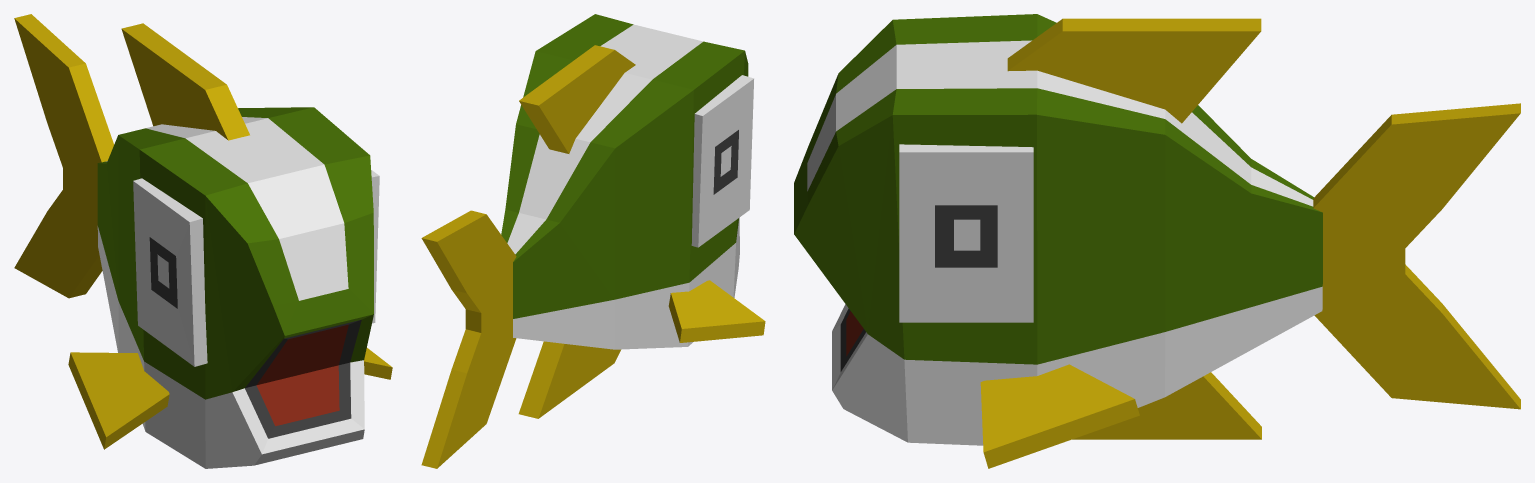
The model's file is green.fbx.
3 renders of one model, left to right at view 1: azimuth 30°, elevation 25°; view 2: azimuth 150°, elevation 25°; view 3: azimuth 270°, elevation 25°, orthographic. The views are drawn at different scales.
Visible parts, largest first — view 1: Cube.029; view 2: Cube.029; view 3: Cube.029.
Part boxes in pixels (box(x1,y1,x2,y2)): Cube.029: box(14, 14, 392, 468); Cube.029: box(421, 14, 765, 468); Cube.029: box(794, 14, 1520, 468).
Bounding box in the file's own units: 2.74 × 3.15 × 5.08.
